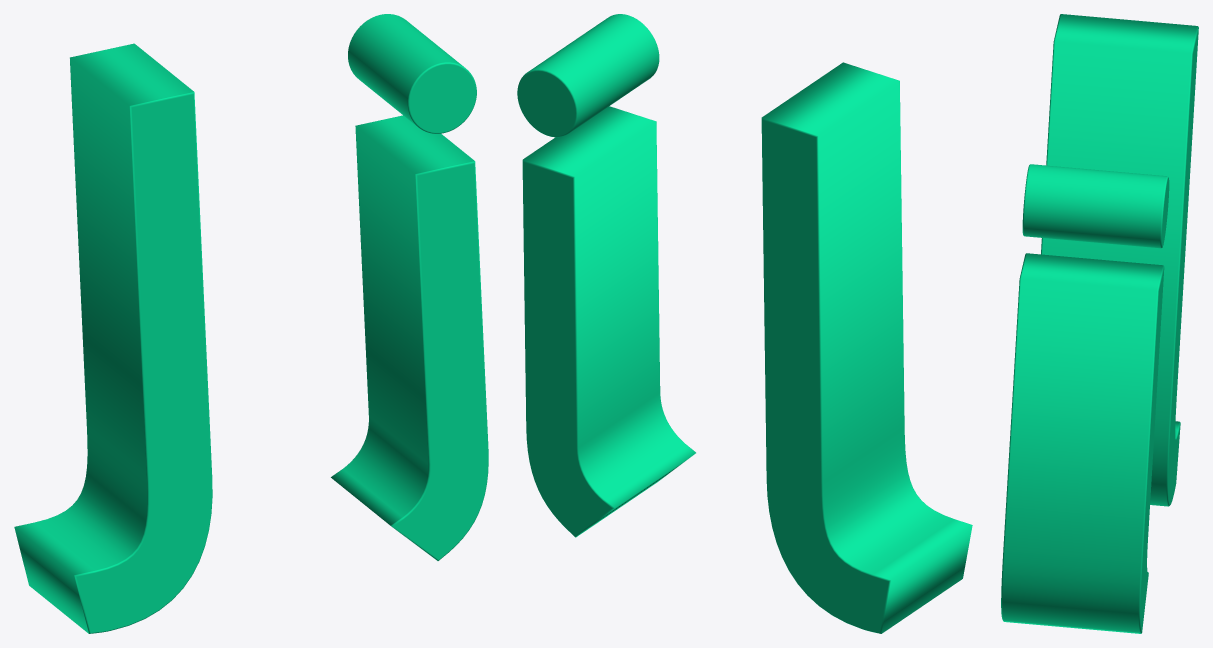
The model's file is ObjectJ.fbx.
3 views of the same model, side by side, from view 1: azimuth 30°, elevation 25°; view 2: azimuth 150°, elevation 25°; view 3: azimuth 270°, elevation 25° (orthographic). The views are drawn at different scales.
Visible parts, largest first — view 1: Text; view 2: Text; view 3: Text.
Boxes of the visible parts, <box> form: Text: <box>14,14,488,633</box>; Text: <box>517,14,972,633</box>; Text: <box>1001,14,1198,633</box>.
Size of the model in its own units: 196 by 238 by 86.71.
